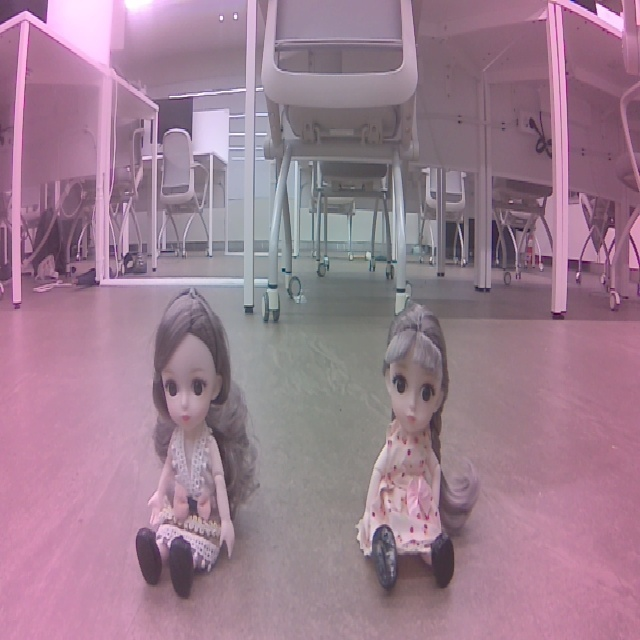장애물: (148, 262, 304, 553), (443, 276, 589, 565)
